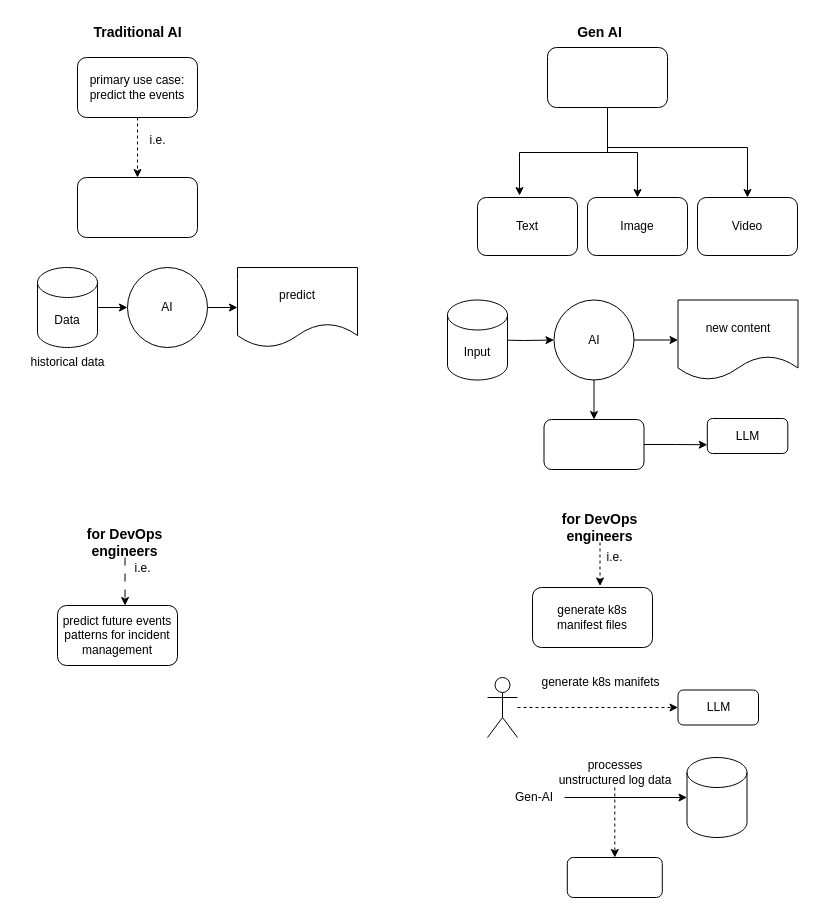
This 815x916 diagram has some shape labels left out. Each missing label, with the centre of its shape:
Actor: the point at 502,707
Logs: the point at 716,797
new Text: the point at 593,444
predict climate: the point at 137,207
primary use case: generate content: the point at 607,77
summarises key issues and suggests fixes: the point at 614,877
